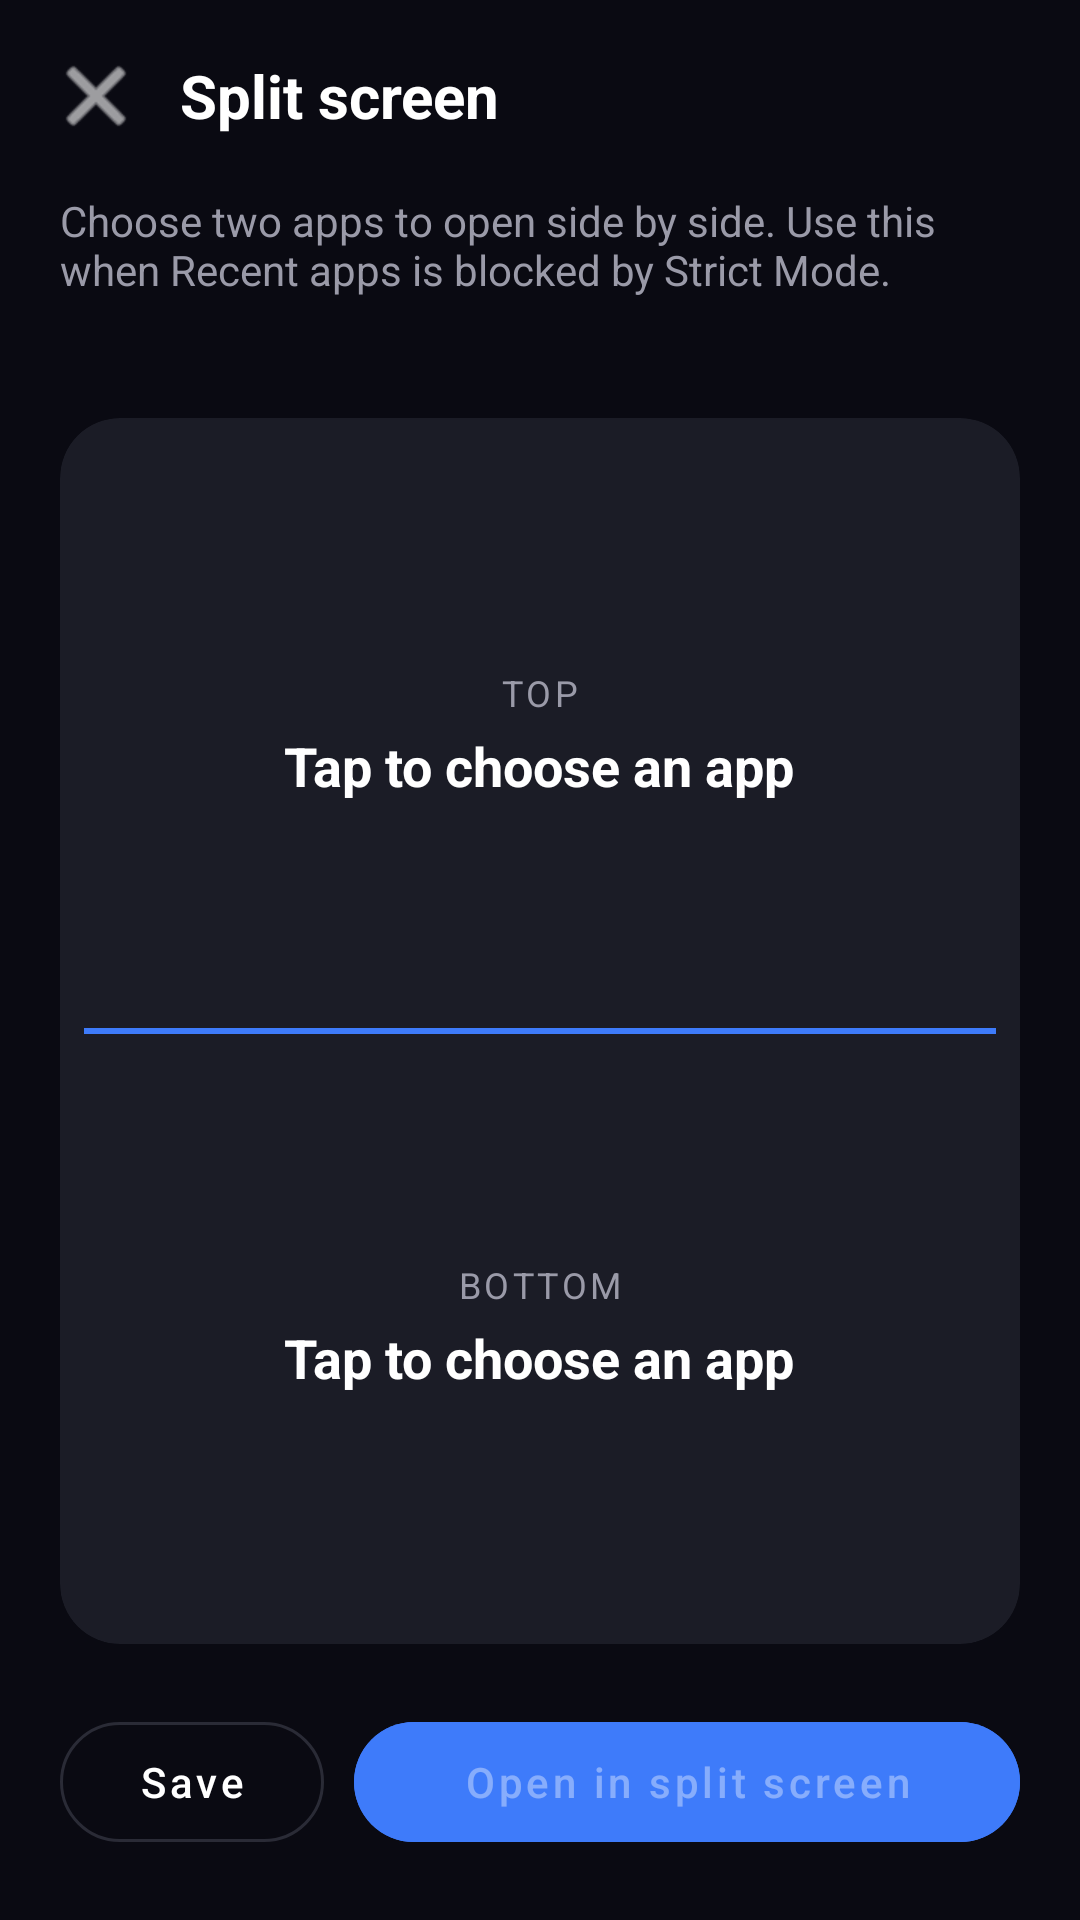

Screen size 1080px x 1920px. Icon name, then its box in pixels as (x1, y1, x2, y2):
Close: (66, 66, 126, 126)
